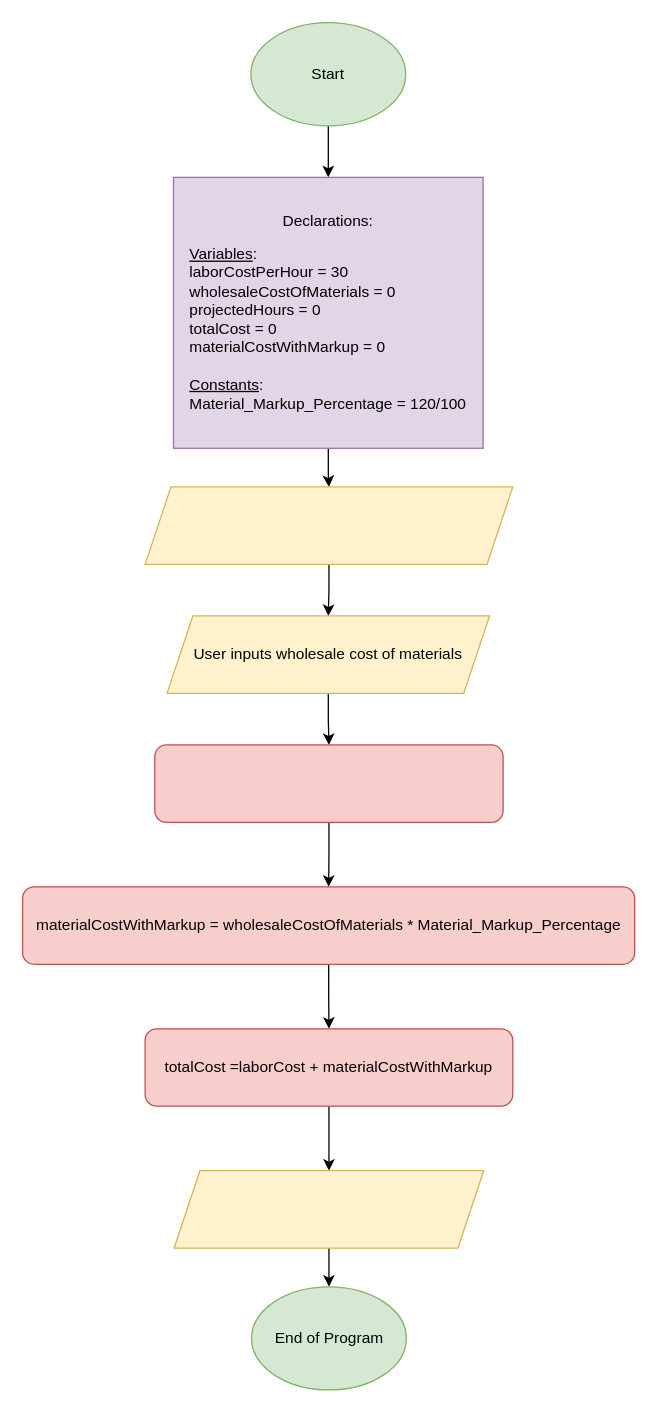
This 658x1413 diagram has some shape labels left out. Here are the shapes that lost their labels. From the top down, the box of each, then its label:
(144, 486, 513, 564): User inputs projected number of hours for job
(154, 744, 503, 822): laborCost = laborCostPerHour * projectedHours
(173, 1169, 484, 1248): Print Total cost of remodeling project
